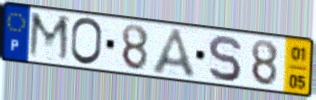8: (250, 38, 280, 88), (120, 23, 150, 72)
A: (149, 27, 199, 81)
M: (26, 10, 72, 65)
O: (69, 16, 105, 68)
S: (206, 33, 243, 83)
